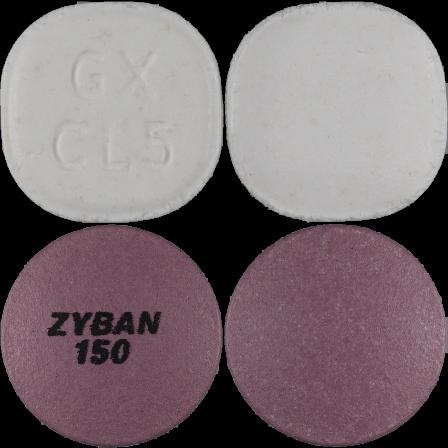0173-0527: (0, 0, 224, 224)
